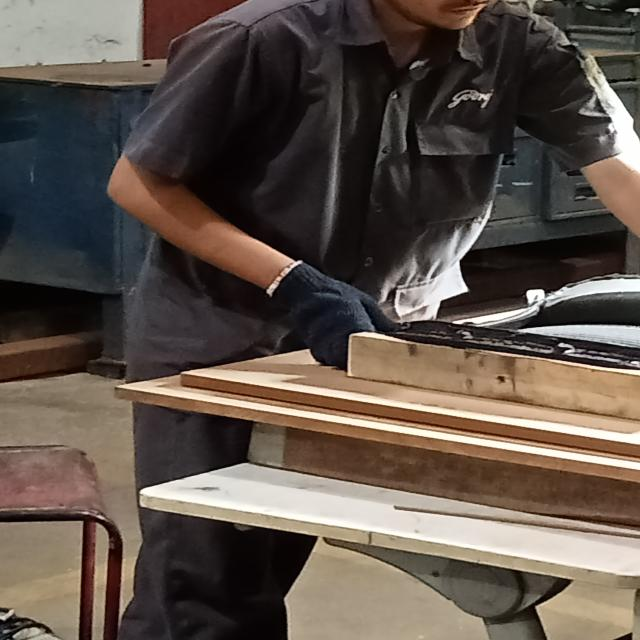Gloves-Detection: (274, 260, 370, 364)
